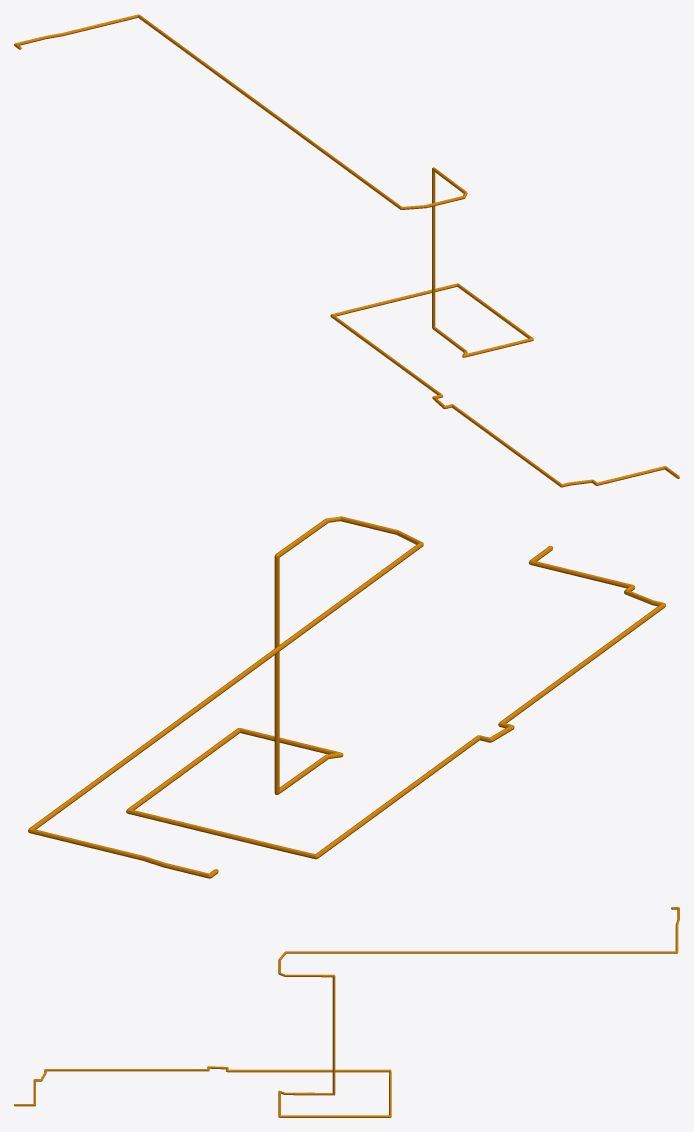
3 renders of one model, top to bottom at view 1: azimuth 30°, elevation 25°; view 2: azimuth 150°, elevation 25°; view 3: azimuth 270°, elevation 25°, orthographic. The views are drawn at different scales.
Size of the model in its own units: 1656 by 1020 by 5109.
